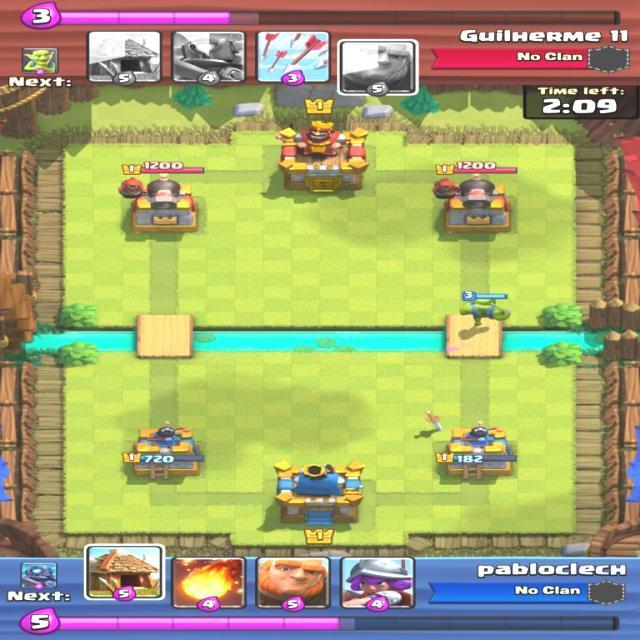ECannoneerTower: (120, 173, 197, 232), (433, 177, 510, 230)
EKingTower: (277, 120, 368, 191)
OBrawler: (461, 291, 510, 325)
OwnKingTower: (274, 462, 363, 528)
OwnPrincessTower: (436, 422, 516, 478), (123, 423, 202, 478)
